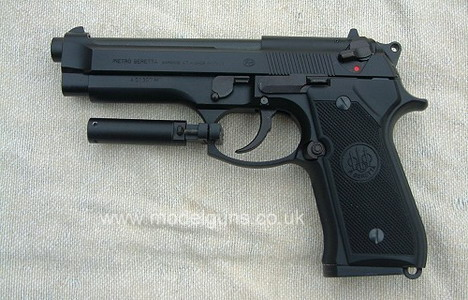gun: (42, 22, 442, 294)
